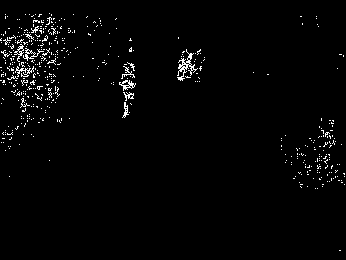person: (118, 61, 138, 120), (193, 48, 206, 83)
